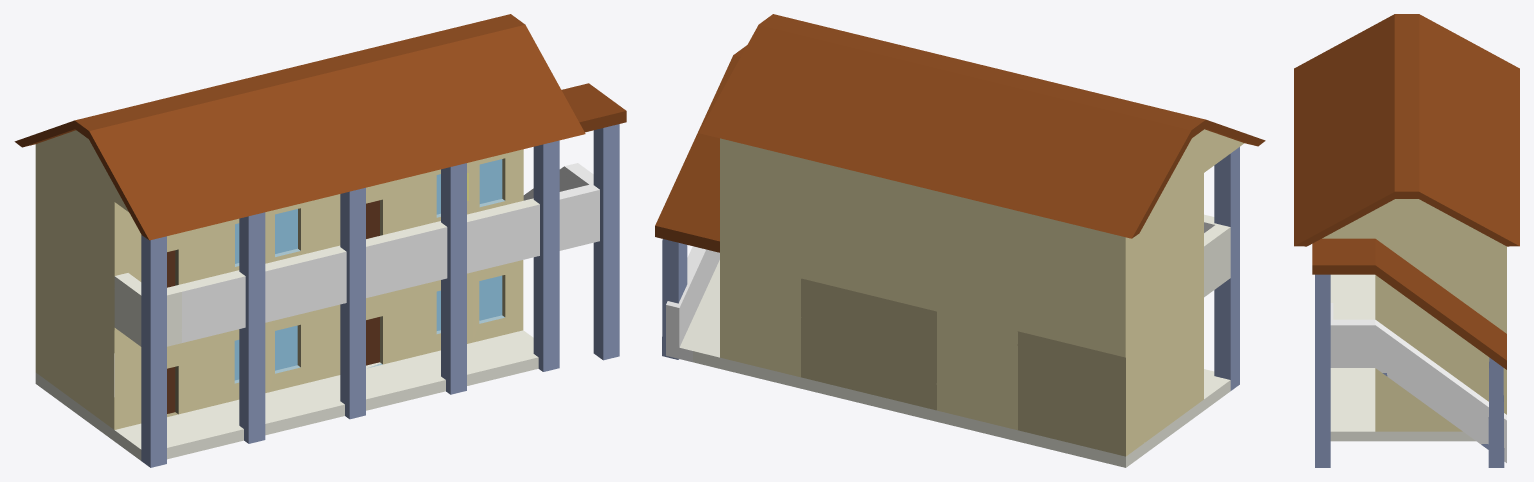
The model's file is gedung sklh (3).fbx.
3 views of the same model, side by side, from view 1: azimuth 30°, elevation 25°; view 2: azimuth 150°, elevation 25°; view 3: azimuth 270°, elevation 25° (orthographic). The views are drawn at different scales.
Parts seen in each view (by area): view 1: cube, cuboid, cuboid_2, cuboid_7, cuboid_1, cuboid_5, cuboid_3, cuboid_4; view 2: cube, cuboid, cuboid_2, cuboid_8; view 3: cube, cuboid, cuboid_7, cuboid_8.
Boxes of the visible parts, x1=… form: cube: x1=14, y1=14, x2=585, y2=429; cuboid: x1=35, y1=83, x2=626, y2=460; cuboid_2: x1=141, y1=235, x2=166, y2=467; cuboid_7: x1=593, y1=124, x2=619, y2=360; cuboid_1: x1=239, y1=212, x2=265, y2=443; cuboid_5: x1=533, y1=140, x2=559, y2=371; cuboid_3: x1=340, y1=187, x2=365, y2=419; cuboid_4: x1=441, y1=163, x2=466, y2=394; cube: x1=699, y1=14, x2=1265, y2=456; cuboid: x1=655, y1=45, x2=1230, y2=467; cuboid_2: x1=1214, y1=147, x2=1239, y2=390; cuboid_8: x1=662, y1=239, x2=687, y2=359; cube: x1=1294, y1=14, x2=1519, y2=431; cuboid: x1=1312, y1=238, x2=1506, y2=462; cuboid_7: x1=1315, y1=274, x2=1330, y2=467; cuboid_8: x1=1488, y1=357, x2=1504, y2=467.
Bounding box in the file's own units: 112 × 67.48 × 53.66.
3 materials, 3 textured.
